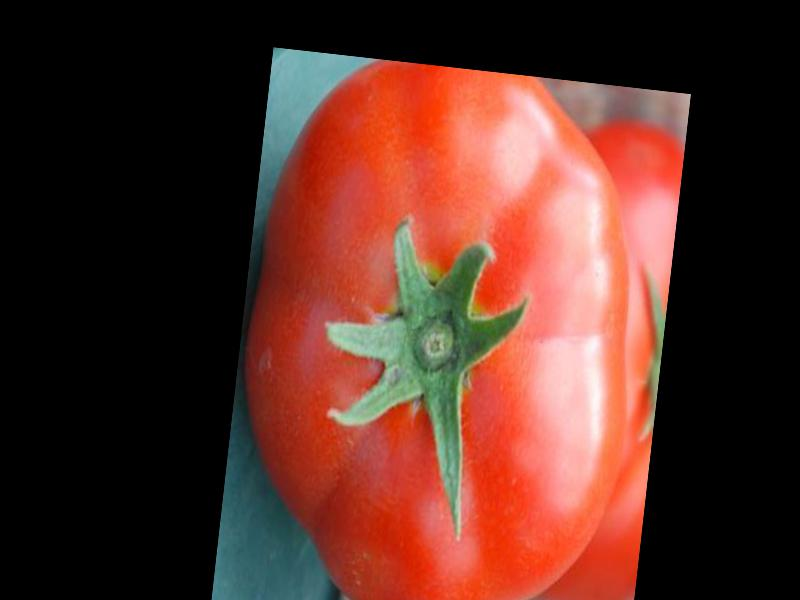Tomato: (218, 50, 662, 600)
